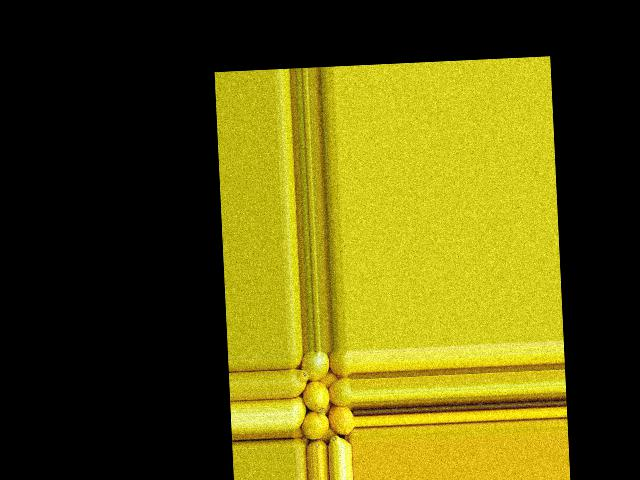lemon: (288, 351, 304, 367)
